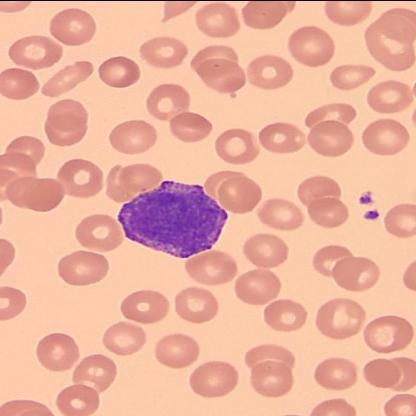Promyelocyte: (118, 177, 228, 256)
